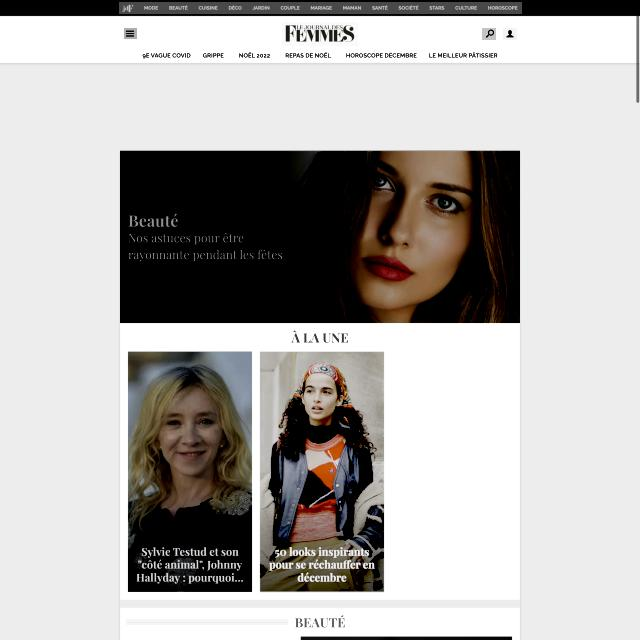accordion: (127, 334, 284, 341), (126, 619, 288, 625), (355, 335, 515, 340), (351, 620, 513, 624)
breadcrumbs: (289, 328, 351, 347), (294, 614, 347, 630)
card: (120, 150, 520, 323)
carousel: (482, 28, 496, 40), (503, 28, 517, 40), (124, 28, 137, 39)
copy: (260, 351, 384, 593), (128, 351, 252, 592)
date picker: (282, 22, 358, 46)
decoration: (119, 2, 522, 14), (138, 49, 500, 62)
image: (126, 211, 286, 271)
